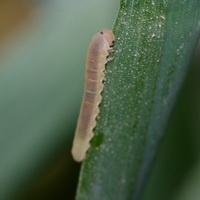insect: (72, 29, 113, 161)
